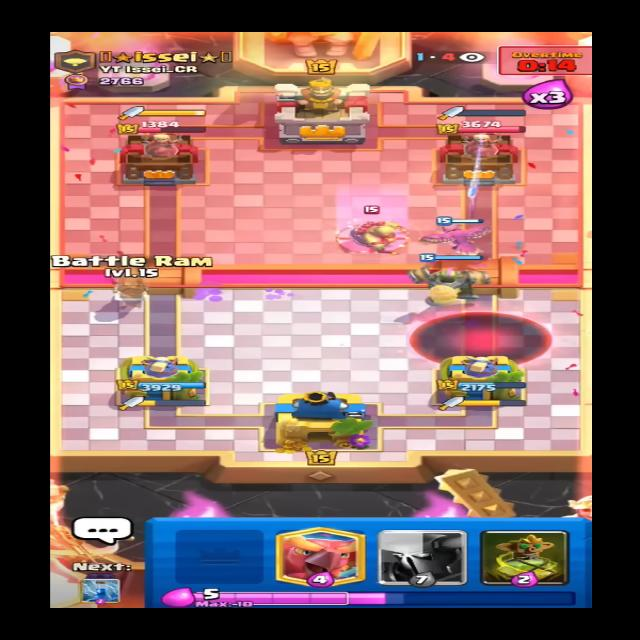goblin-demolisher: (335, 209, 407, 251)
